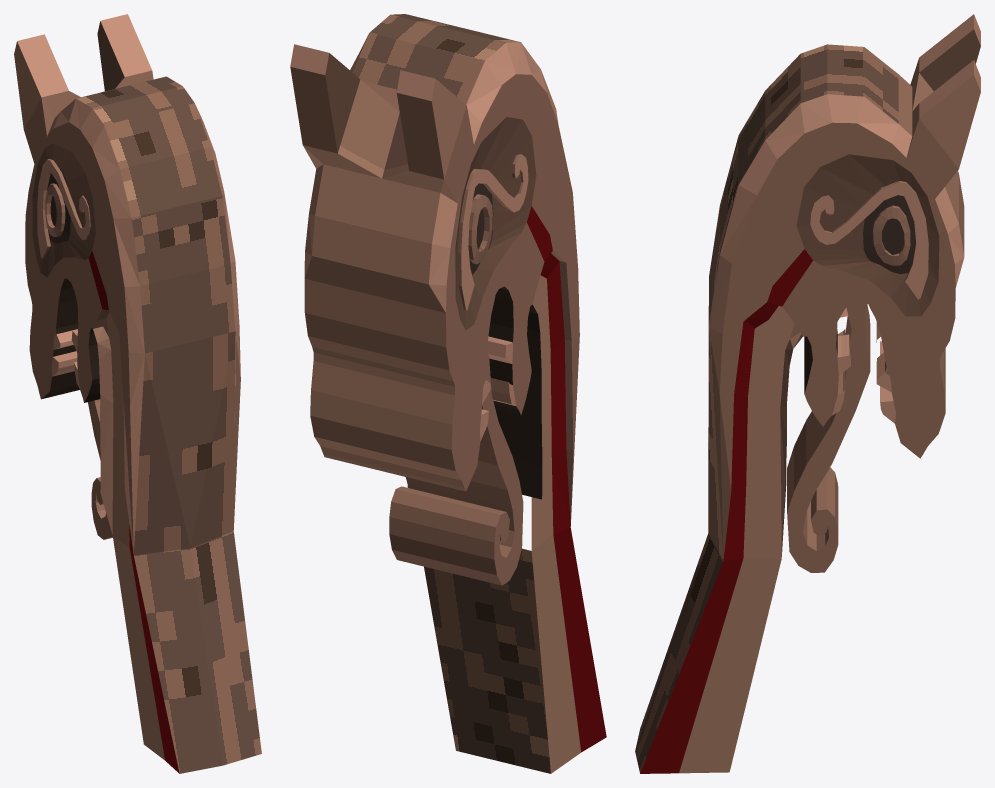
File: ship_figure_head_03.gltf
3 views of the same model, side by side, from view 1: azimuth 30°, elevation 25°; view 2: azimuth 150°, elevation 25°; view 3: azimuth 270°, elevation 25° (orthographic). The views are drawn at different scales.
Parts seen in each view (by area): view 1: ship_figure_head_03; view 2: ship_figure_head_03; view 3: ship_figure_head_03.
Part boxes in pixels (x1,y1,x2,y2): ship_figure_head_03: [14, 14, 261, 773]; ship_figure_head_03: [290, 14, 606, 773]; ship_figure_head_03: [635, 14, 980, 773].
Size of the model in its own units: 1.08 by 5.69 by 2.52.
Materials: 1 (1 with a texture image).
